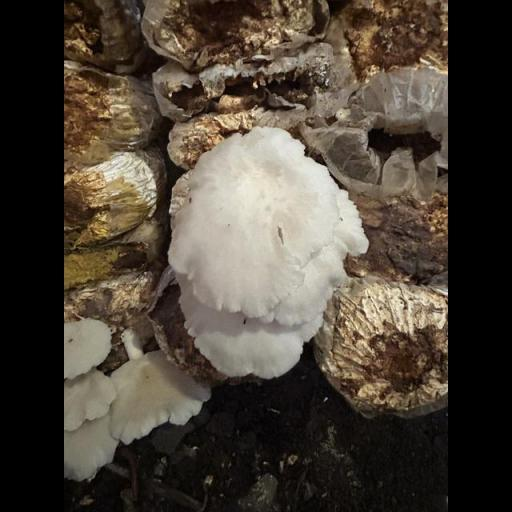White Oyster Mushroom: (159, 120, 376, 375)
